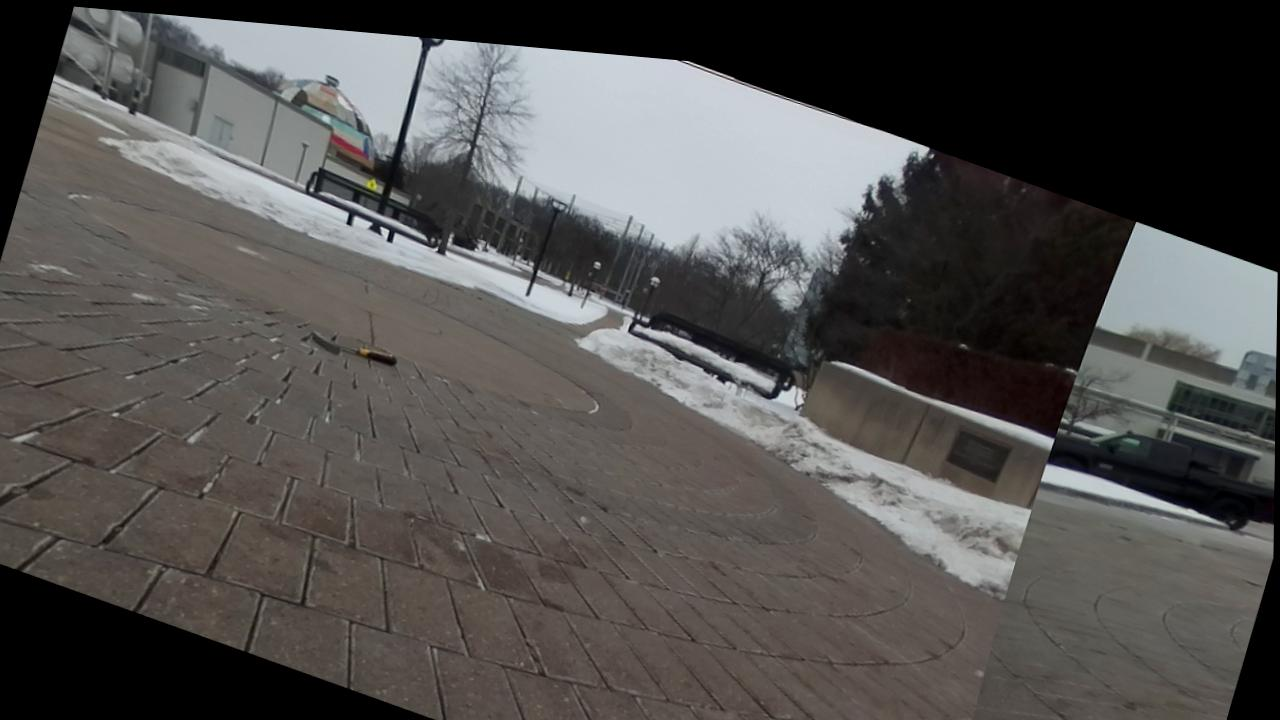pick: (306, 332, 395, 365)
